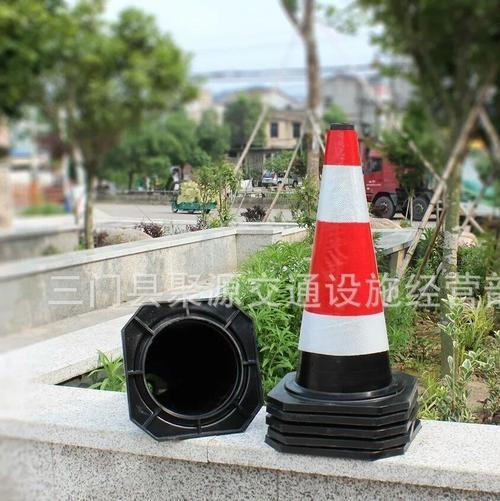cone_barrel: (270, 126, 410, 405)
